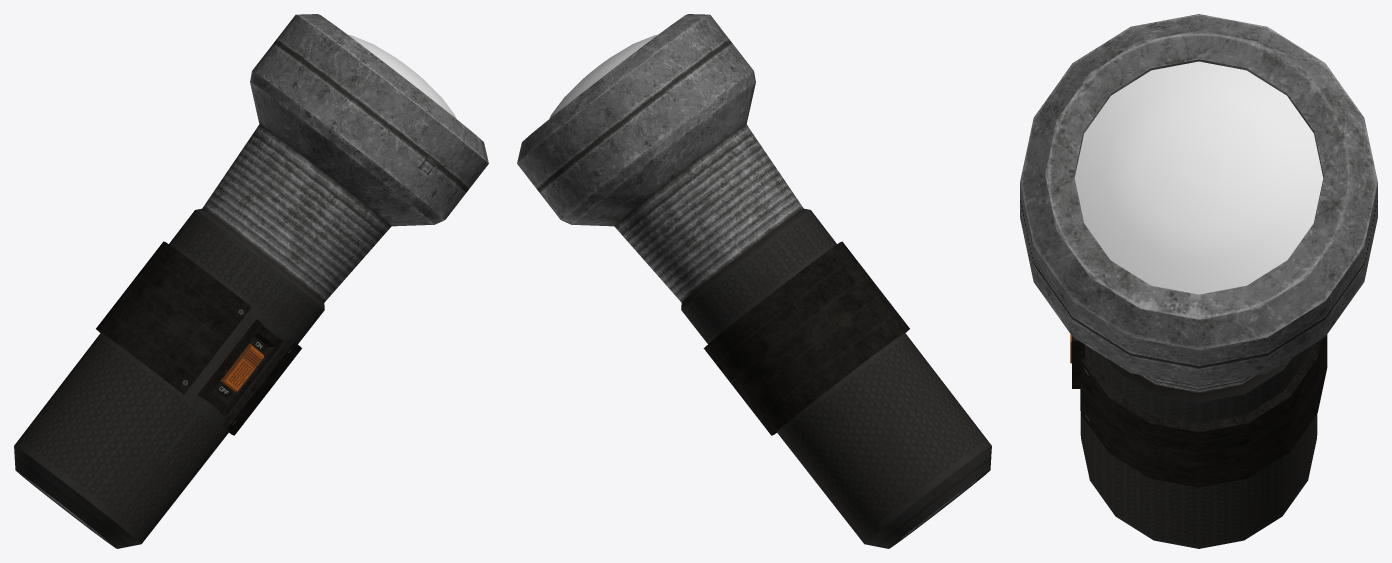
Rendered from Flashlight.fbx.
3 views of the same model, side by side, from view 1: azimuth 30°, elevation 25°; view 2: azimuth 150°, elevation 25°; view 3: azimuth 270°, elevation 25° (orthographic). The views are drawn at different scales.
Parts seen in each view (by area): view 1: Flashlight_low, Ring_low, Buttonbase_low, Glass_low, Button_low; view 2: Flashlight_low, Ring_low, Glass_low; view 3: Flashlight_low, Glass_low, Ring_low, Buttonbase_low.
Part boxes in pixels (box(x1,y1,x2,y2)): Flashlight_low: box(14, 14, 488, 548); Ring_low: box(96, 241, 301, 435); Buttonbase_low: box(198, 319, 283, 416); Glass_low: box(348, 34, 456, 118); Button_low: box(220, 343, 263, 391); Flashlight_low: box(517, 14, 991, 548); Ring_low: box(703, 241, 909, 435); Glass_low: box(549, 34, 657, 118); Flashlight_low: box(1020, 14, 1377, 548); Glass_low: box(1074, 61, 1323, 294); Ring_low: box(1081, 334, 1327, 487); Buttonbase_low: box(1072, 336, 1084, 388).
Bounding box in the file's own units: 82.86 × 82.86 × 40.01.
